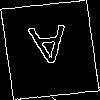A: (25, 24, 72, 74)
